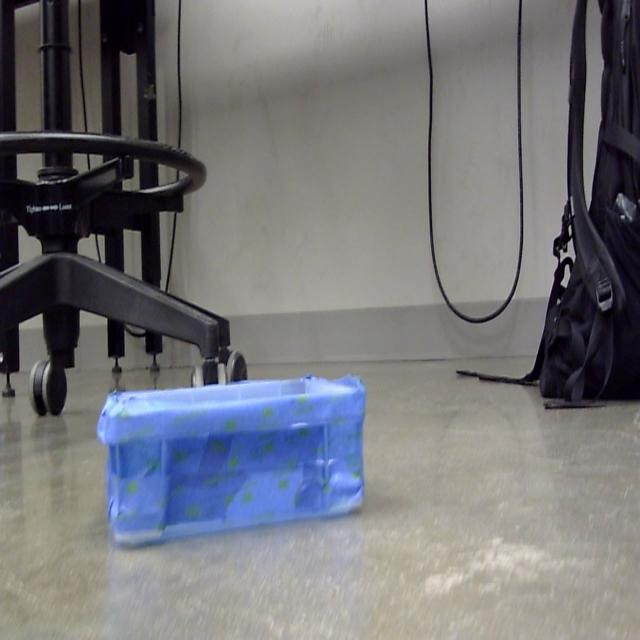bucket: (96, 377, 367, 552)
